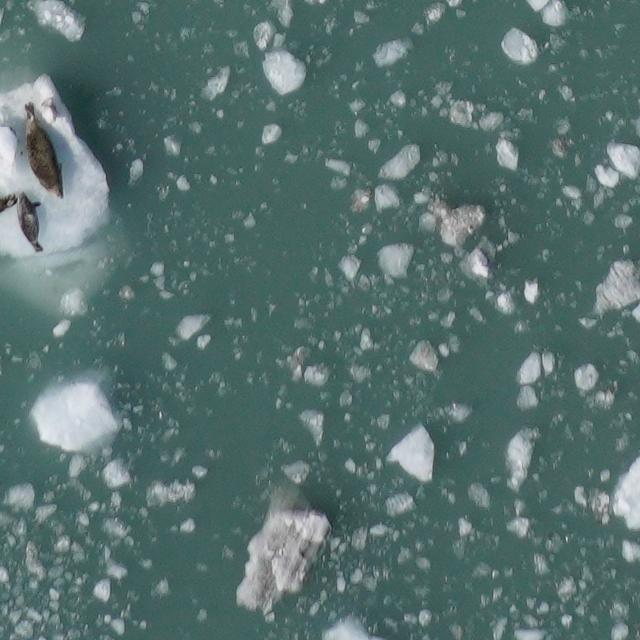seal: (19, 98, 69, 204), (14, 189, 47, 256)
